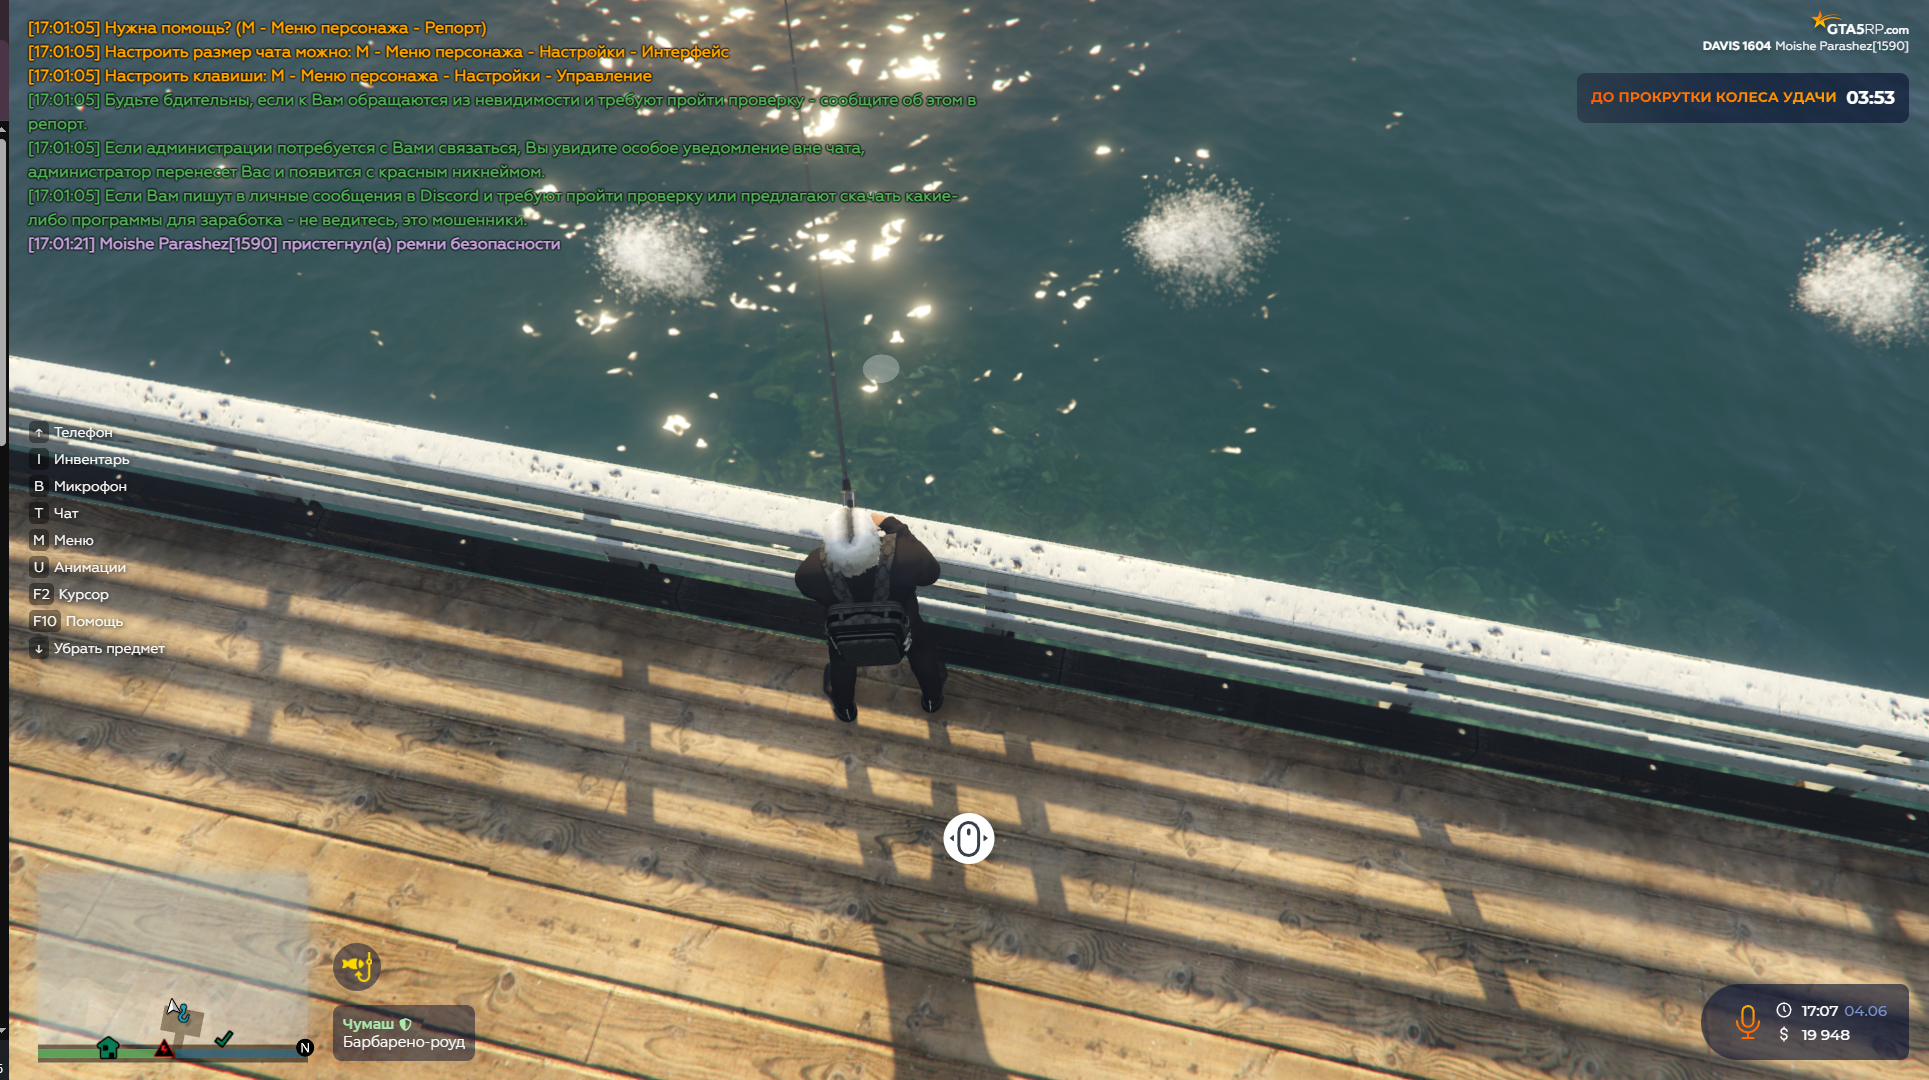circle: (862, 352, 900, 384)
